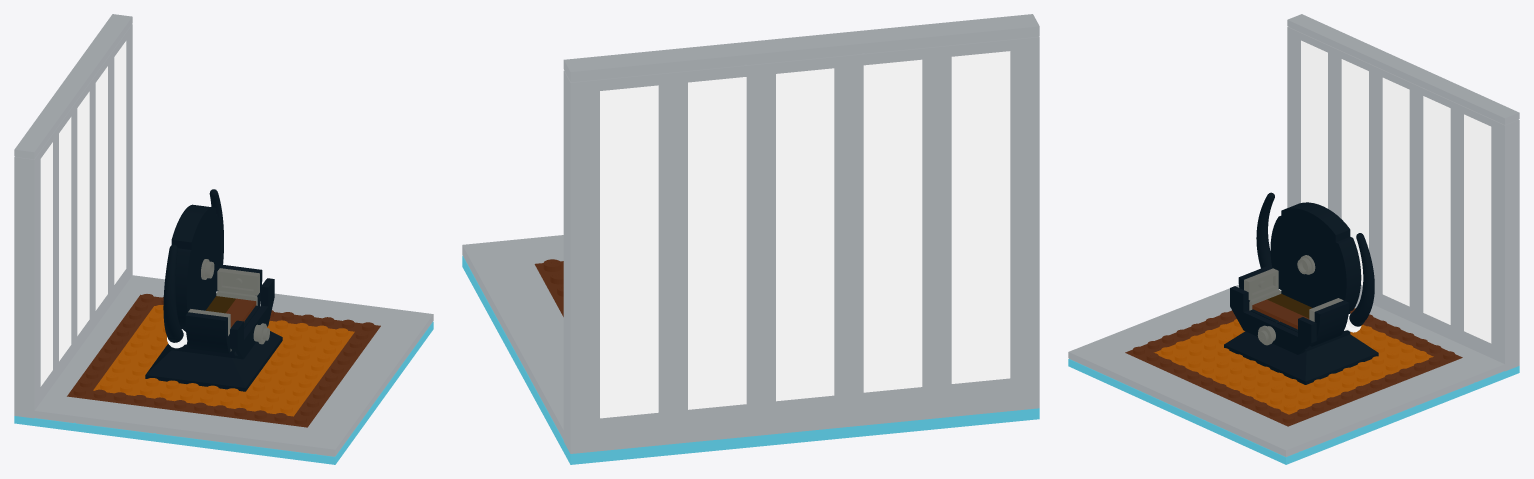
File: wakanda-throne2.glb
The picture shows the model from 3 angles, left to right: view 1: azimuth 30°, elevation 25°; view 2: azimuth 150°, elevation 25°; view 3: azimuth 270°, elevation 25°; orthographic projection. The views are drawn at different scales.
Visible parts, largest first — view 1: 00055_91405.dat, 00064_87079.dat, 00066_87079.dat, 00065_87079.dat, 00058_87079.dat, 00047_15068.dat, 00056_6636.dat, 00169_6636.dat, 00088_3020.dat, 00083_3020.dat, 00086_3020.dat, 00087_3020.dat (+55 smaller); view 2: 00102_2454.dat, 00104_2454.dat, 00105_2454.dat, 00103_2454.dat, 00108_2454.dat, 00100_2454.dat, 00106_2454.dat, 00099_2454.dat, 00101_2454.dat, 00107_2454.dat, 00055_91405.dat, 00171_6636.dat (+75 smaller); view 3: 00055_91405.dat, 00099_2454.dat, 00106_2454.dat, 00100_2454.dat, 00101_2454.dat, 00107_2454.dat, 00105_2454.dat, 00108_2454.dat, 00104_2454.dat, 00102_2454.dat, 00062_87079.dat, 00059_87079.dat (+61 smaller).
Part boxes in pixels (x1,y1,x2,y2): 00055_91405.dat: [14, 321, 433, 464]; 00064_87079.dat: [235, 420, 327, 454]; 00066_87079.dat: [74, 399, 166, 433]; 00065_87079.dat: [155, 409, 246, 443]; 00058_87079.dat: [332, 360, 396, 404]; 00047_15068.dat: [185, 312, 230, 353]; 00056_6636.dat: [315, 396, 372, 456]; 00169_6636.dat: [14, 99, 71, 159]; 00088_3020.dat: [133, 378, 225, 405]; 00083_3020.dat: [213, 388, 305, 416]; 00086_3020.dat: [266, 359, 329, 399]; 00087_3020.dat: [290, 325, 354, 365]; 00102_2454.dat: [863, 223, 922, 392]; 00104_2454.dat: [951, 51, 1010, 220]; 00105_2454.dat: [863, 59, 922, 228]; 00103_2454.dat: [951, 215, 1010, 383]; 00108_2454.dat: [600, 85, 658, 254]; 00100_2454.dat: [688, 240, 746, 409]; 00106_2454.dat: [776, 68, 834, 237]; 00099_2454.dat: [600, 249, 658, 418]; 00101_2454.dat: [776, 232, 834, 401]; 00107_2454.dat: [688, 77, 746, 246]; 00055_91405.dat: [462, 255, 1039, 464]; 00171_6636.dat: [563, 42, 746, 82]; 00055_91405.dat: [1068, 358, 1519, 464]; 00099_2454.dat: [1464, 223, 1491, 343]; 00106_2454.dat: [1382, 77, 1409, 197]; 00100_2454.dat: [1423, 204, 1450, 324]; 00101_2454.dat: [1382, 186, 1409, 306]; 00107_2454.dat: [1423, 96, 1450, 216]; 00105_2454.dat: [1341, 59, 1368, 179]; 00108_2454.dat: [1464, 114, 1491, 234]; 00104_2454.dat: [1301, 40, 1327, 160]; 00102_2454.dat: [1341, 167, 1368, 285]; 00062_87079.dat: [1390, 363, 1475, 405]; 00059_87079.dat: [1274, 409, 1358, 450].
Bounding box in the file's own units: 0.1809 × 0.1152 × 0.1809.
